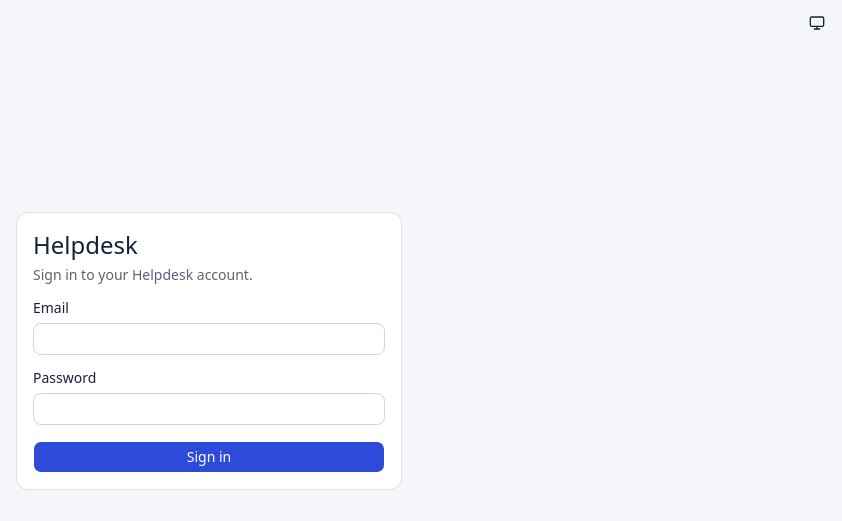
Test: LoginPage › flags only a missing password
Type "agent@example.com" into the field labelled "Email". click: (209, 339)
box: [33, 323, 385, 355]
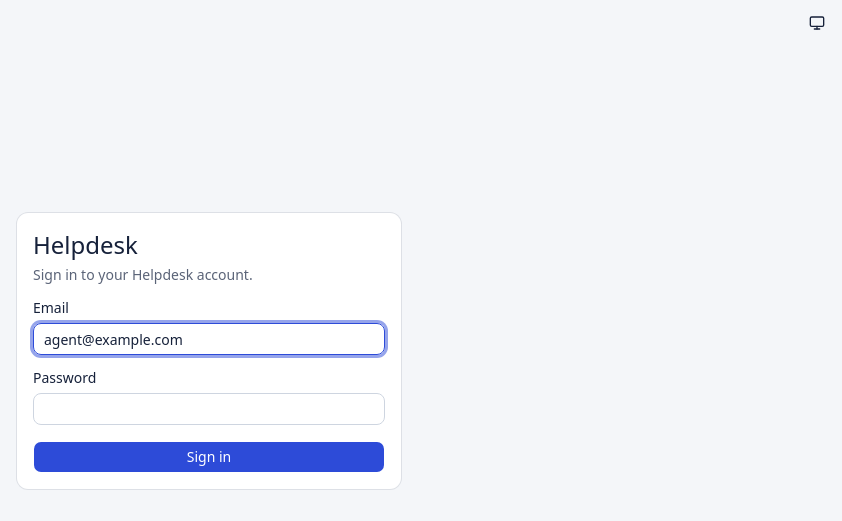
Click the button "Sign in". click: (209, 457)
box: [33, 441, 385, 473]
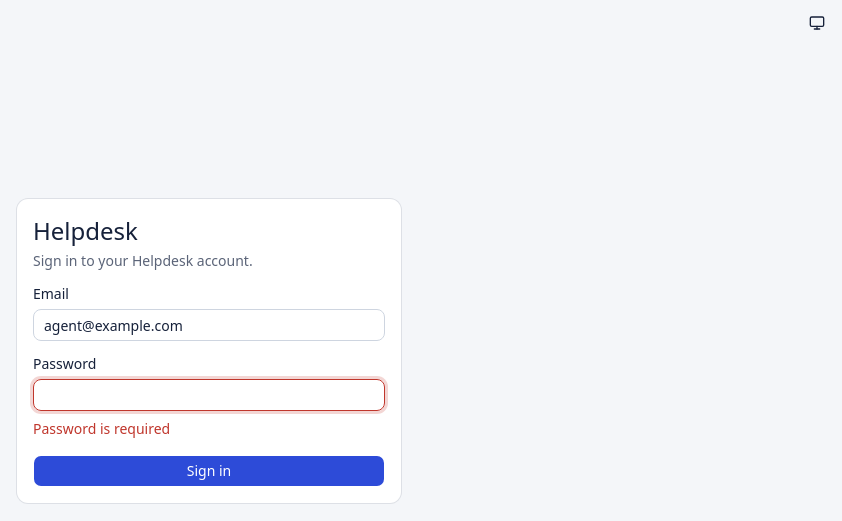
Result: the text "Password is required" is shown at [33, 419, 170, 438]
